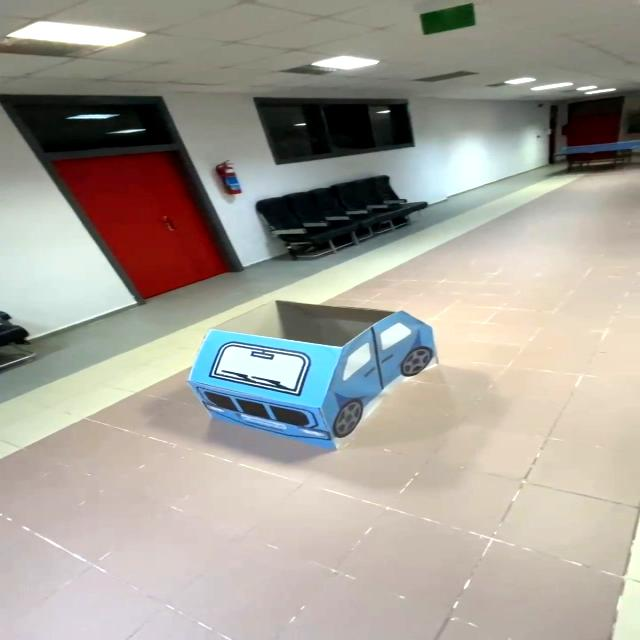blue_car: (171, 280, 477, 454)
